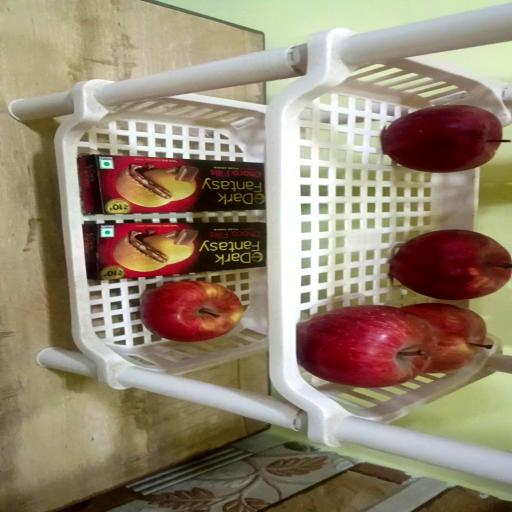Apple: (296, 305, 438, 388), (380, 105, 510, 173), (390, 230, 512, 301), (402, 303, 493, 373), (140, 281, 243, 342)
Choco Fills: (77, 154, 265, 215), (75, 223, 266, 280)
